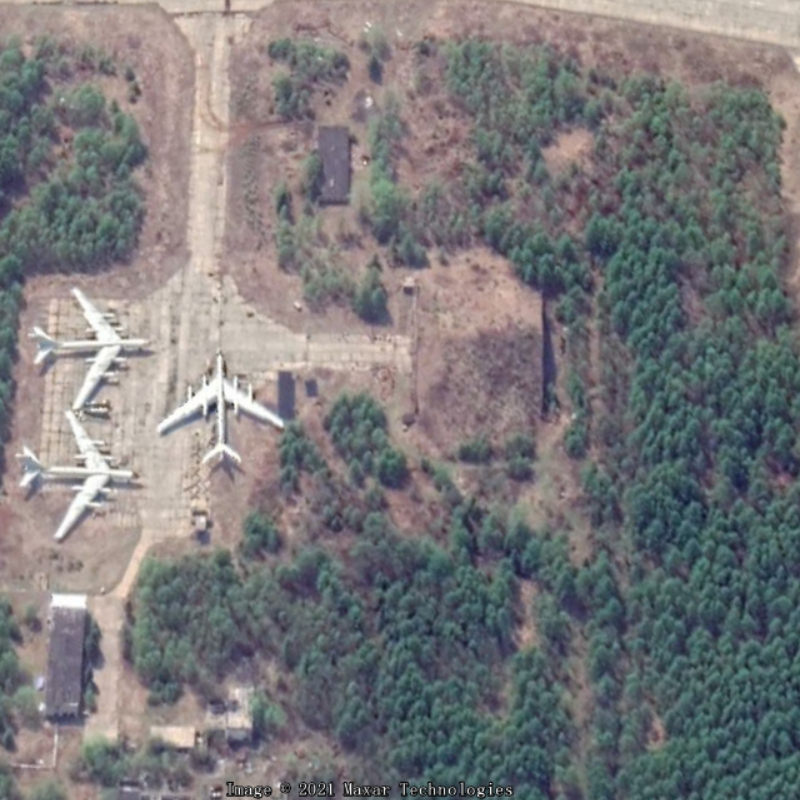A17: (13, 407, 143, 543), (27, 284, 155, 413), (153, 349, 287, 467)
